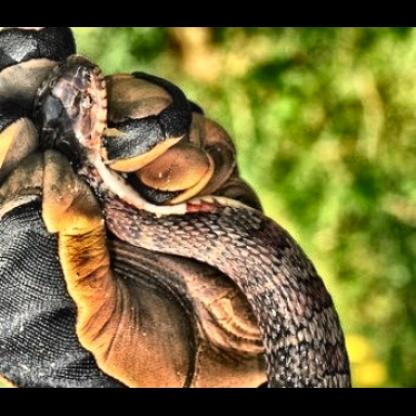Snake: (0, 49, 366, 390)
